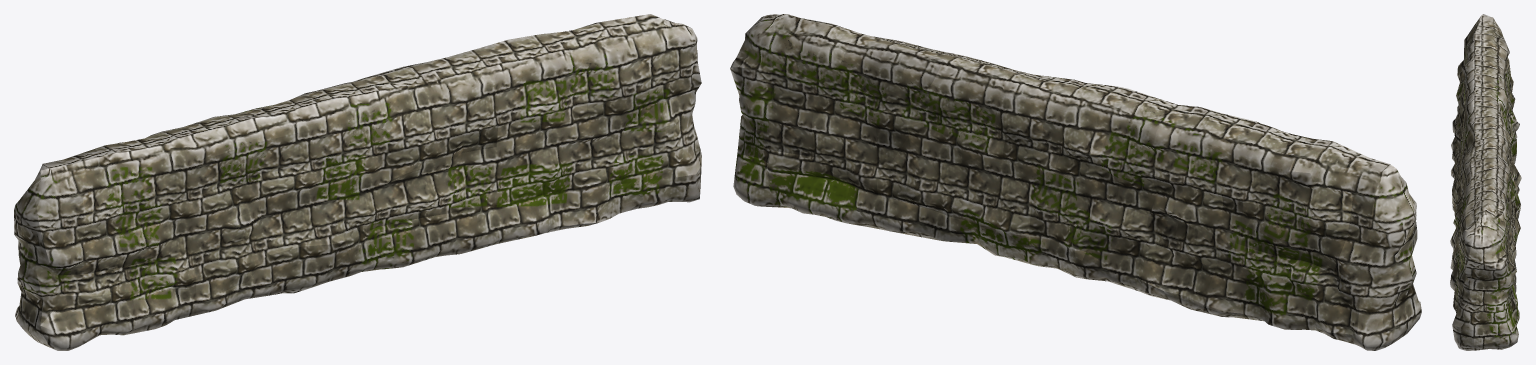
File: RockyWall1F.fbx
The picture shows the model from 3 angles, left to right: view 1: azimuth 30°, elevation 25°; view 2: azimuth 150°, elevation 25°; view 3: azimuth 270°, elevation 25°; orthographic projection. The views are drawn at different scales.
Parts seen in each view (by area): view 1: RockyWall_LOD0; view 2: RockyWall_LOD0; view 3: RockyWall_LOD0.
Boxes of the visible parts, bbox=[...] form: RockyWall_LOD0: bbox=[14, 14, 701, 350]; RockyWall_LOD0: bbox=[730, 14, 1421, 350]; RockyWall_LOD0: bbox=[1450, 14, 1521, 350].
Size of what is drawn, in the model's own units: 859 by 227 by 114.
